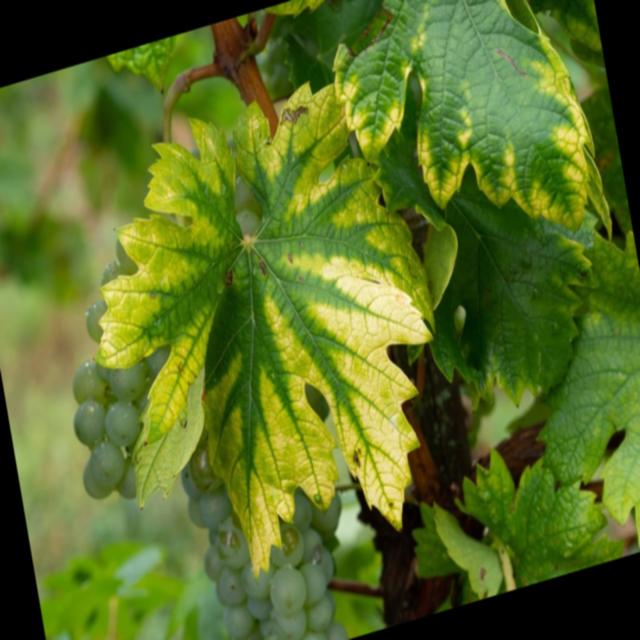Chlorosis: (60, 83, 435, 535)
